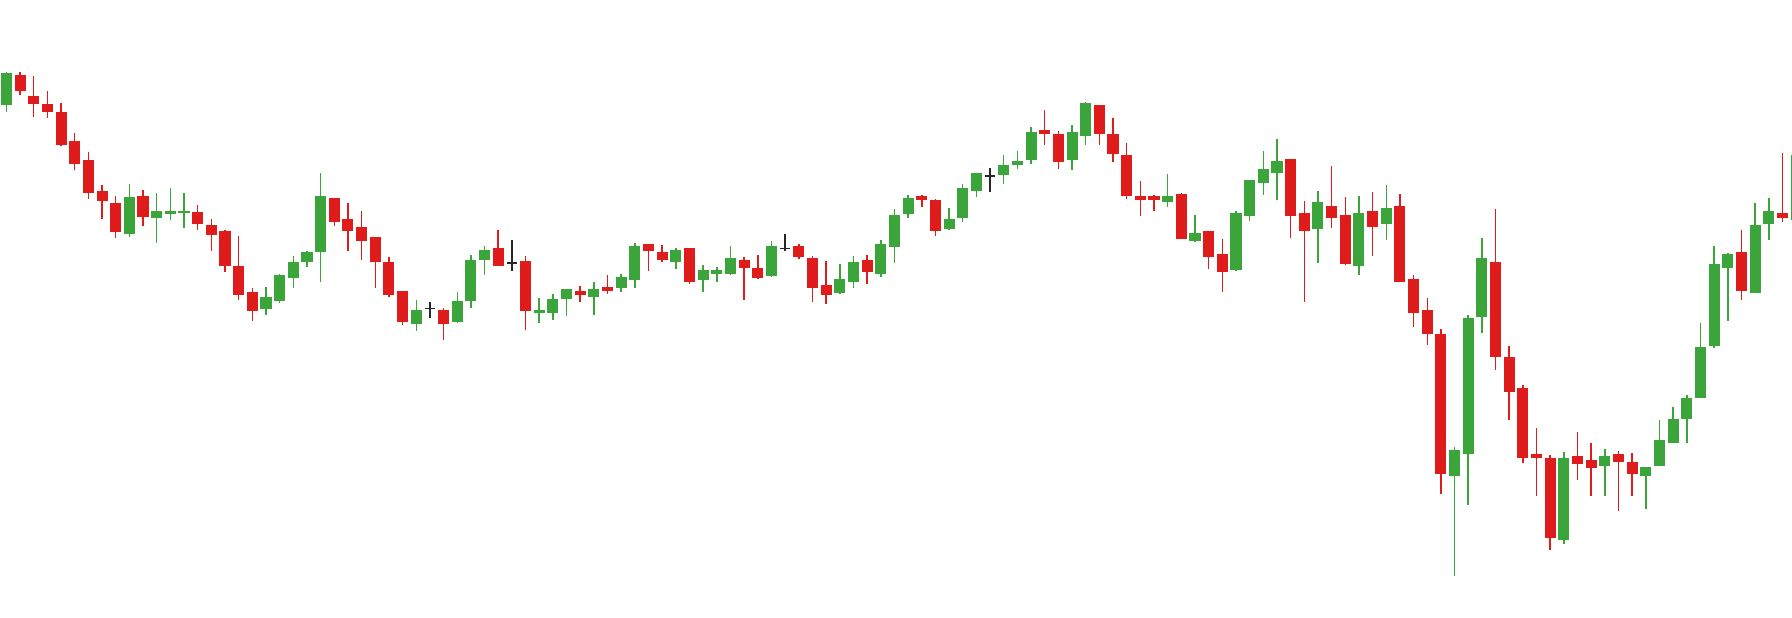buy: (247, 230, 423, 334), (737, 251, 847, 308)
sell: (1162, 139, 1298, 249)
